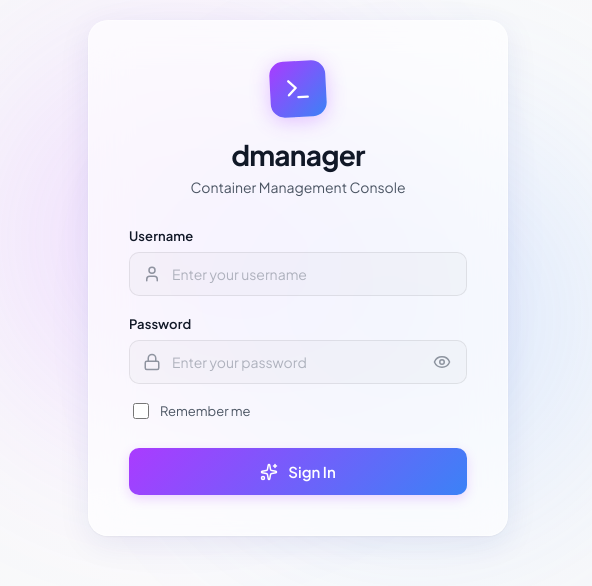
Test: Login Component › shows validation errors when fields are empty on submit
Click the button "Sign In". click: (298, 472)
box: [129, 448, 467, 495]
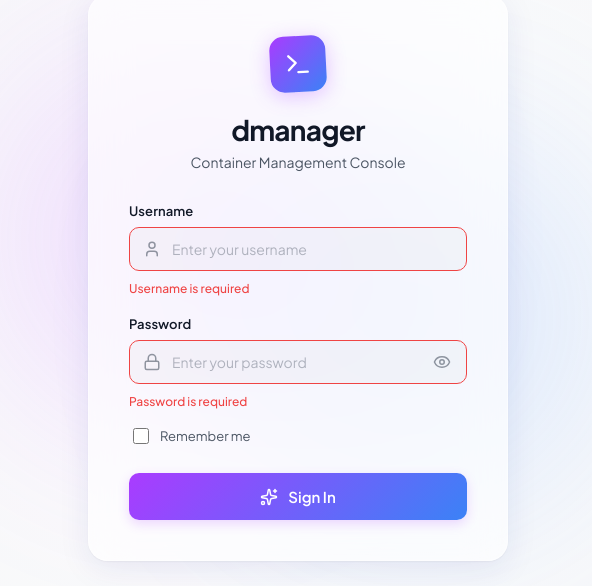
Check: the text "Username is required" is shown, box [129, 281, 250, 296]
Check: the text "Password is required" is shown, box [129, 394, 247, 409]
